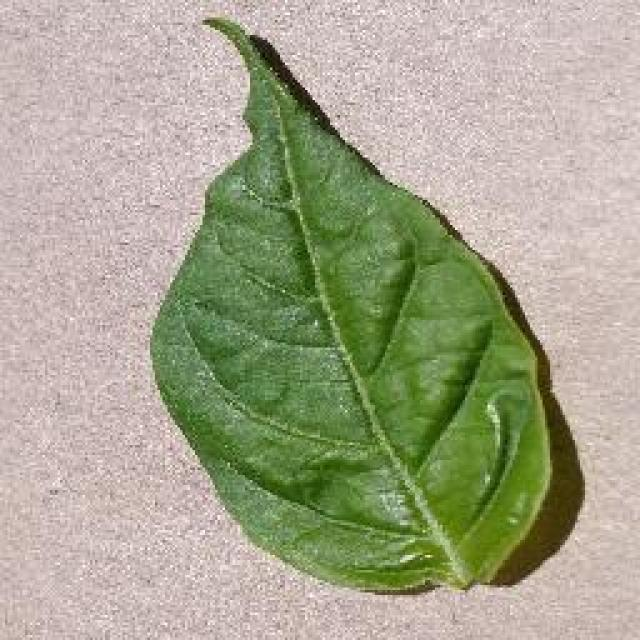Chilli_Healthy: (145, 13, 560, 595)
